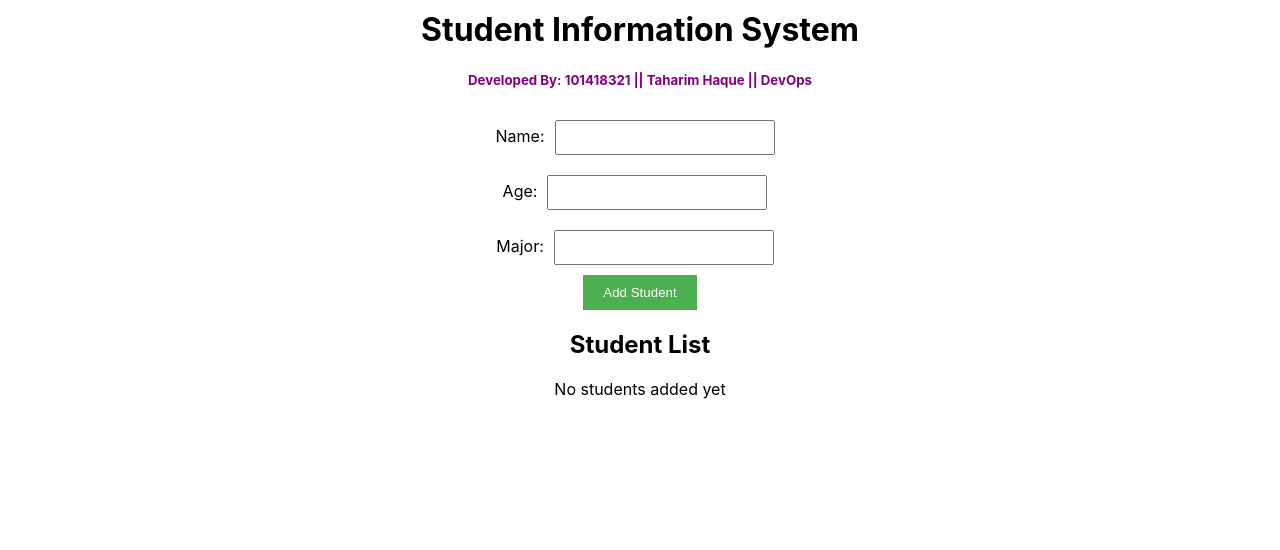
Scenario: adds a complete student record and clears the form
Step 1. Type "Alex Student" into the field named "name" next to "Name:" → (664, 137), box x1=554 y1=120 x2=774 y2=155
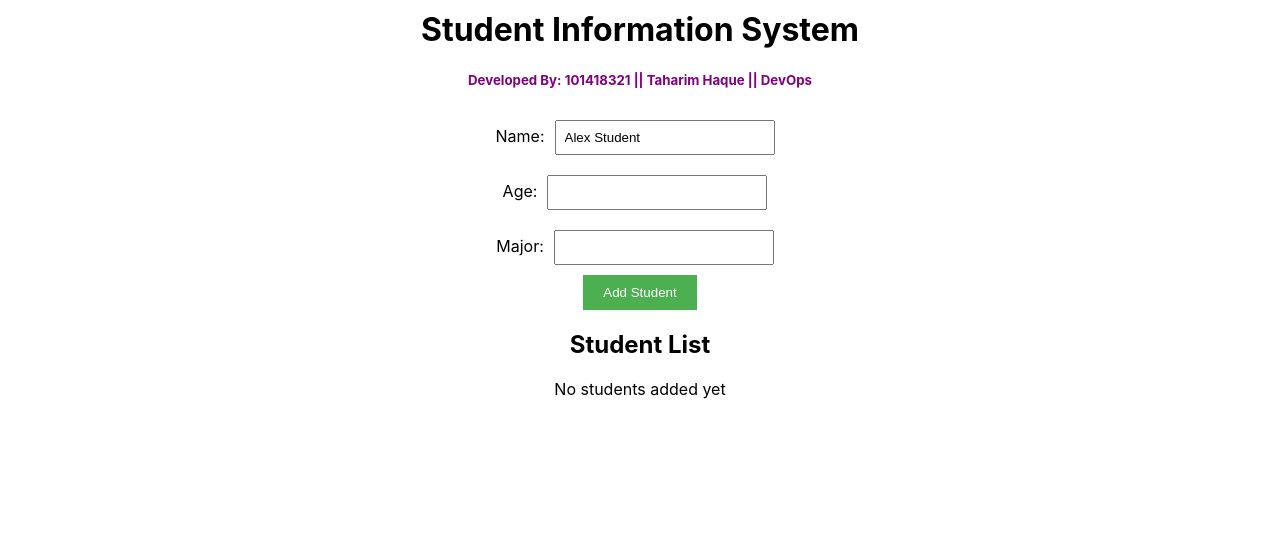
Step 2. Type "21" into the number field named "age" → (657, 192), box x1=547 y1=175 x2=767 y2=210
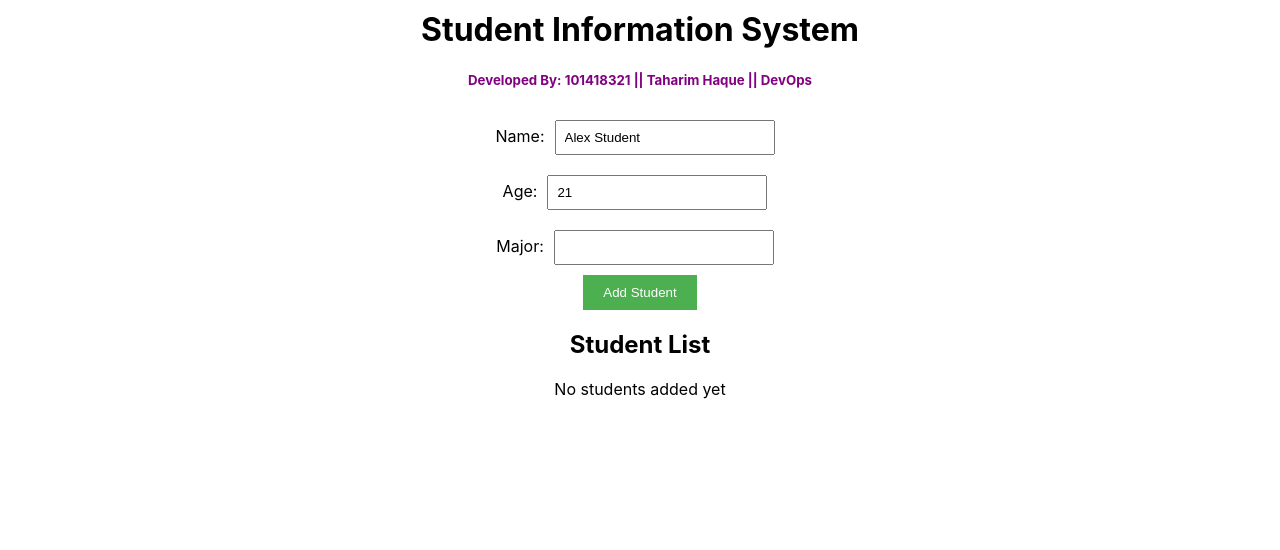
Step 3. Type "Computer Programming" into the field named "major" next to "Major:" → (664, 247), box x1=554 y1=230 x2=774 y2=265
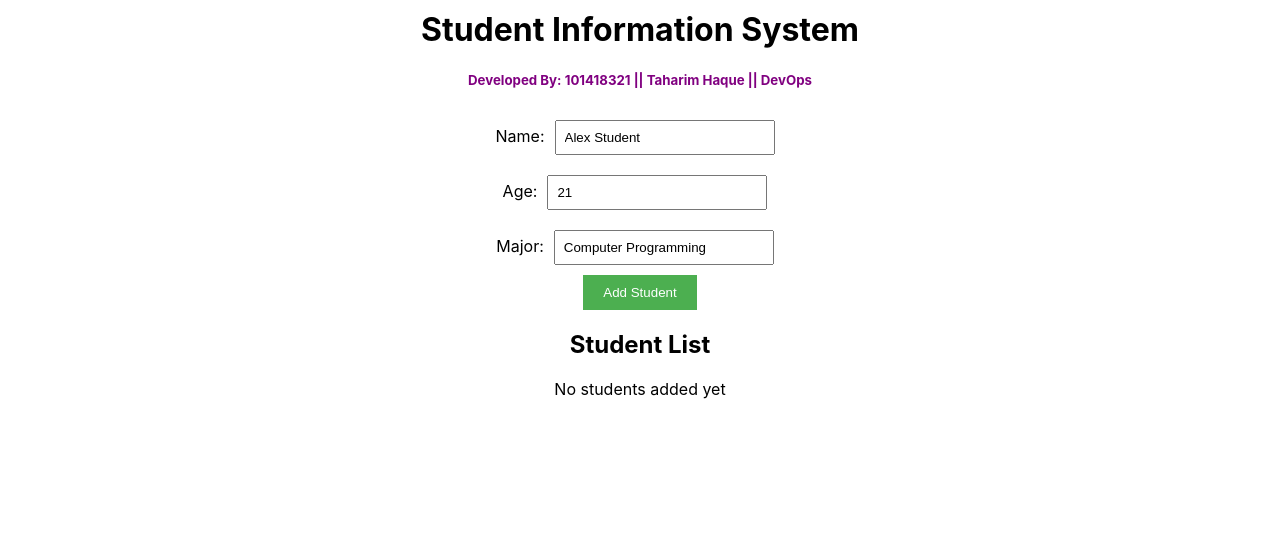
Step 4. Click the button "Add Student" → (640, 292), box x1=583 y1=275 x2=697 y2=310
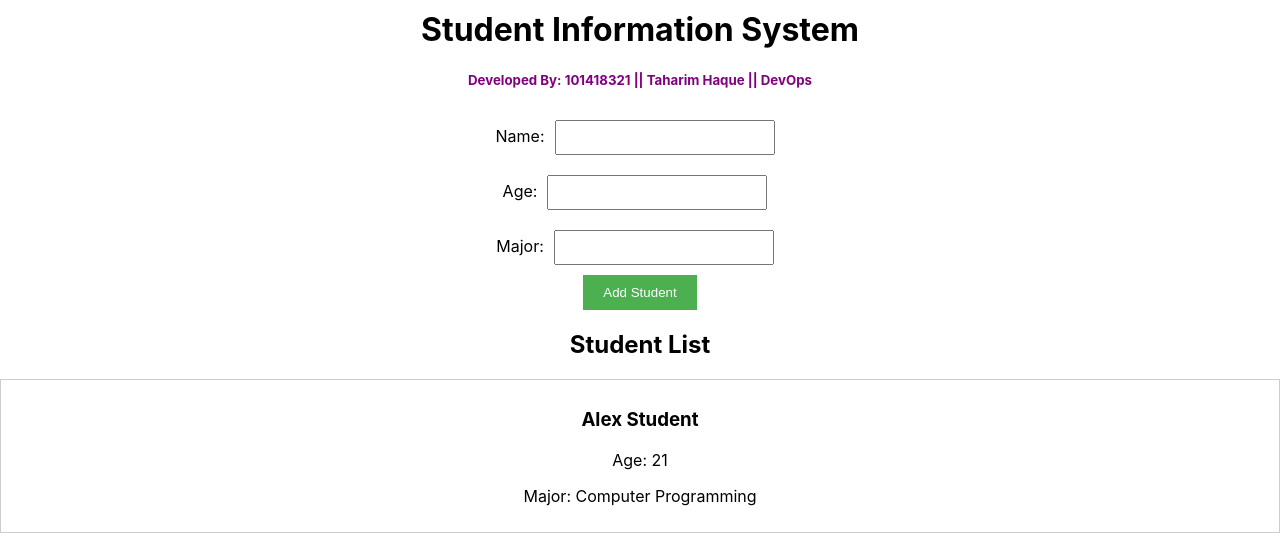
expect the heading "Alex Student" is shown: met, box x1=581 y1=408 x2=699 y2=431
expect the text "Age: 21" is shown: met, box x1=612 y1=450 x2=668 y2=470
expect the text "Major: Computer Programming" is shown: met, box x1=524 y1=486 x2=757 y2=506
